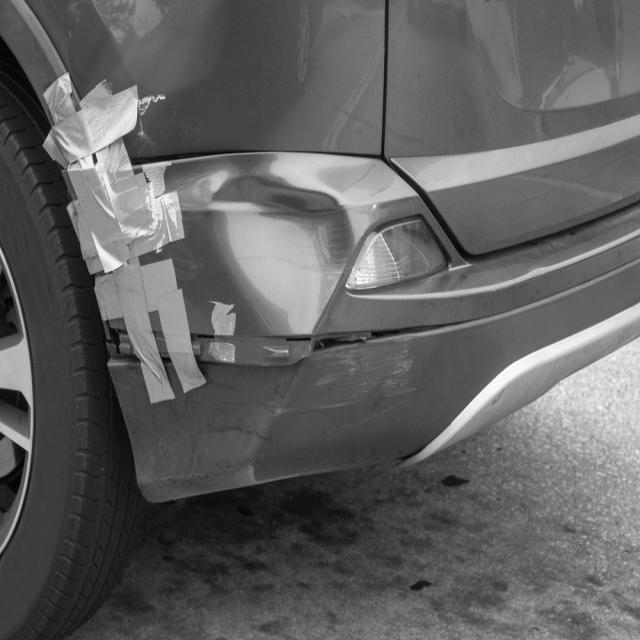dent: (210, 175, 352, 336)
scratch: (235, 343, 429, 428)
